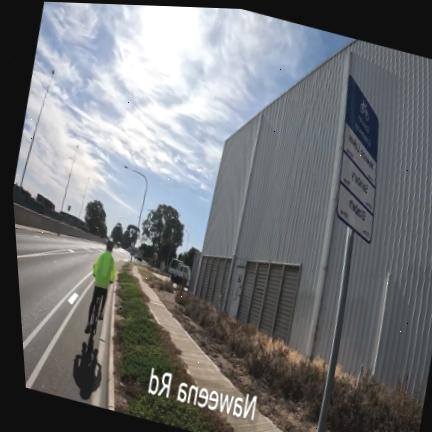Bike_Lane: (31, 284, 112, 408)
Bike_Sign: (337, 76, 379, 243)
